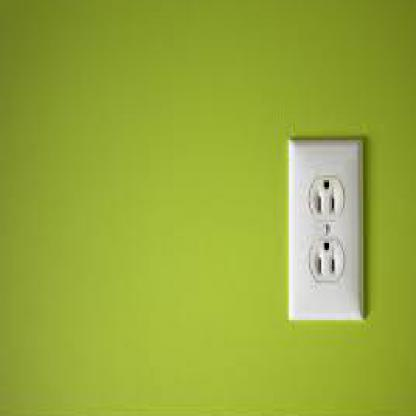OUTLET: (287, 140, 363, 320)
